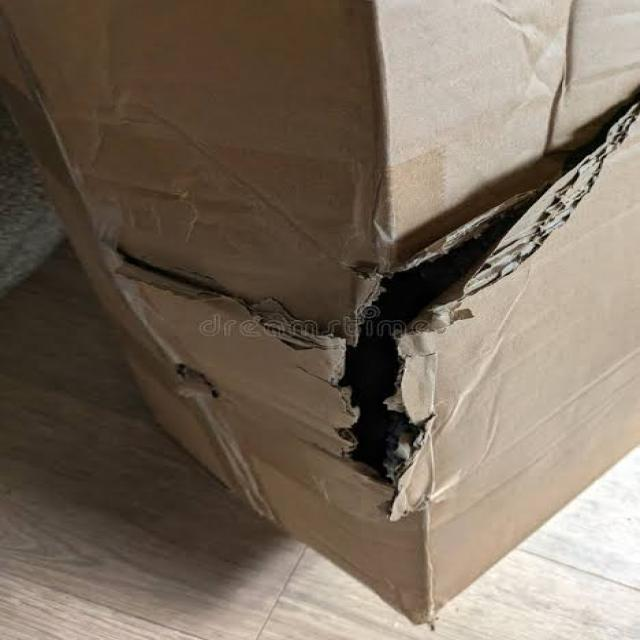carton_box: (0, 0, 640, 640)
package_damage: (62, 85, 636, 536)
